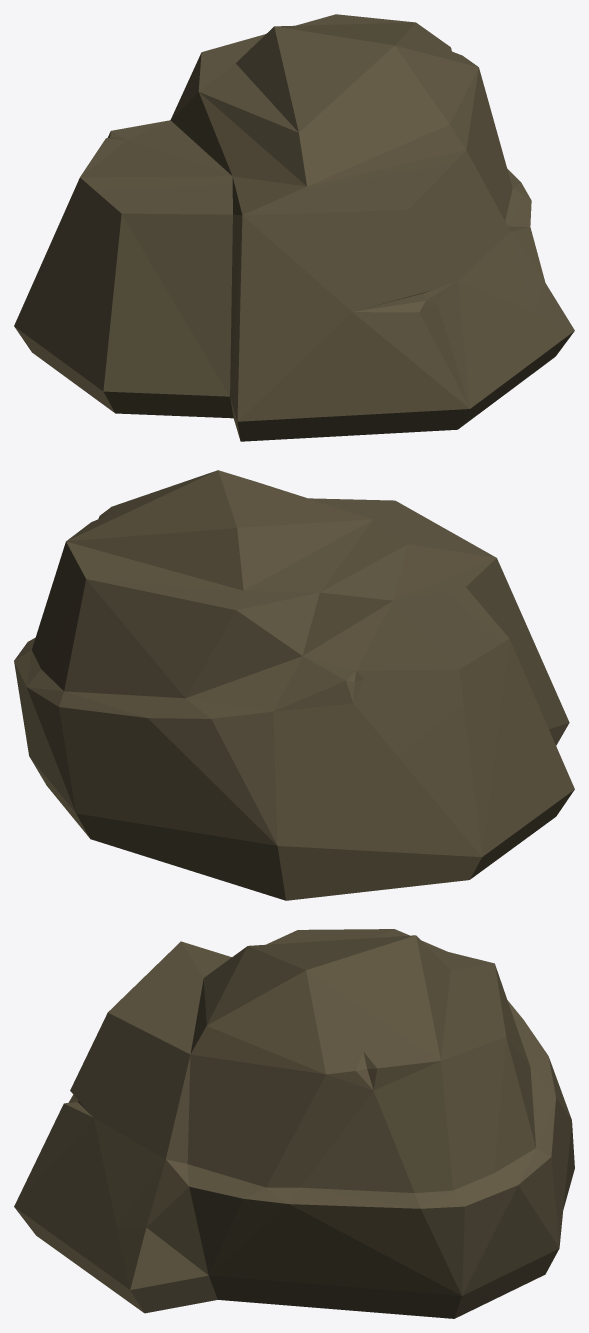
The model's file is rock__rock8_cave_medium.glb.
3 views of the same model, one above another, from view 1: azimuth 30°, elevation 25°; view 2: azimuth 150°, elevation 25°; view 3: azimuth 270°, elevation 25° (orthographic). The views are drawn at different scales.
Visible parts, largest first — view 1: rock8.cave.medium; view 2: rock8.cave.medium; view 3: rock8.cave.medium.
Boxes of the visible parts, left/top/right/bottom form: rock8.cave.medium: left=14, top=14, right=574, bottom=441; rock8.cave.medium: left=14, top=470, right=574, bottom=900; rock8.cave.medium: left=14, top=929, right=574, bottom=1318.
Size of the model in its own units: 2.69 by 1.59 by 2.71.
Materials: 1 (1 with a texture image).
